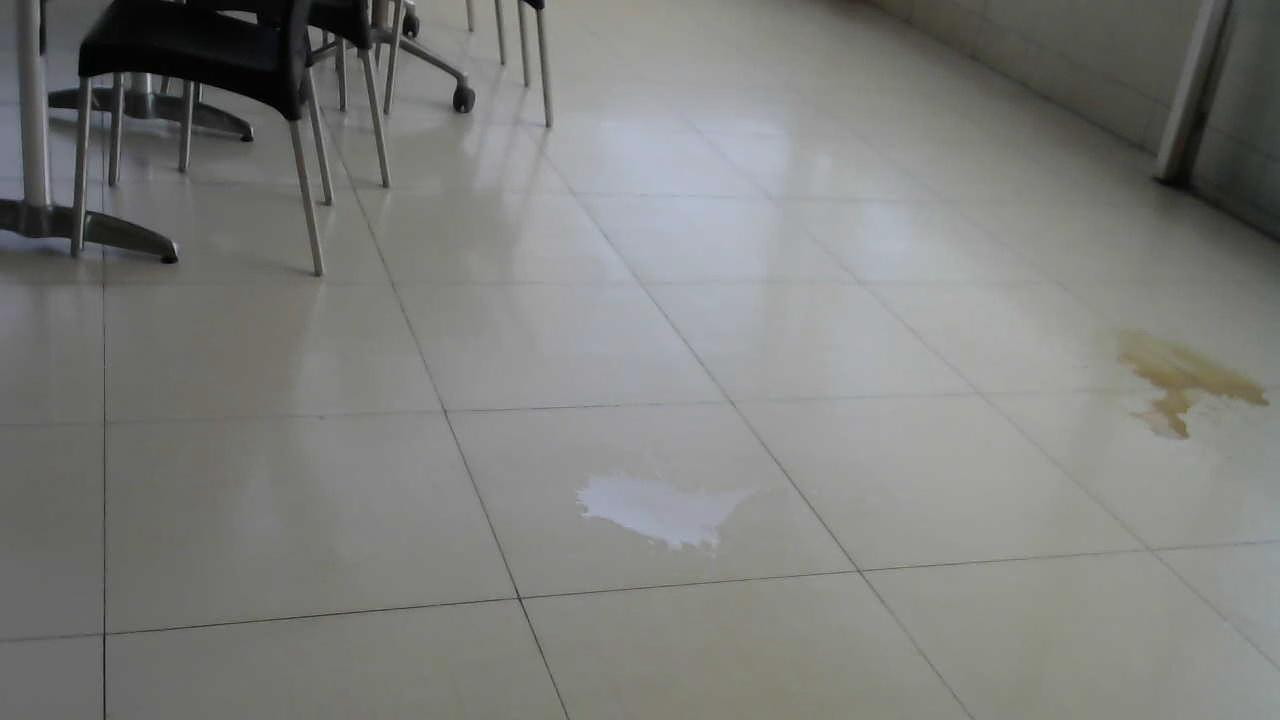dirty_floor: (1113, 320, 1275, 449), (568, 467, 767, 557)
